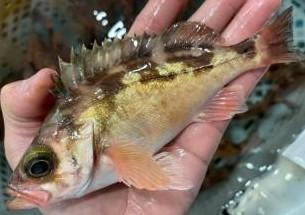fish: (2, 7, 304, 210)
